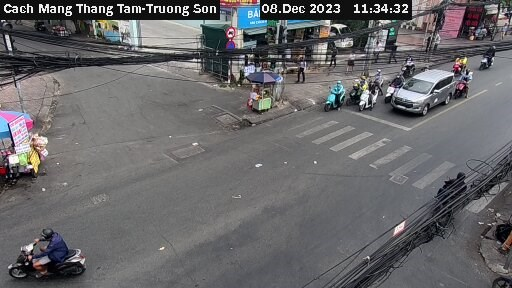car: (392, 69, 459, 118)
motorbike: (5, 222, 84, 286), (356, 81, 385, 115), (324, 80, 352, 115), (449, 72, 478, 101), (345, 71, 366, 104), (368, 64, 389, 91), (480, 46, 500, 73), (448, 52, 469, 73)
